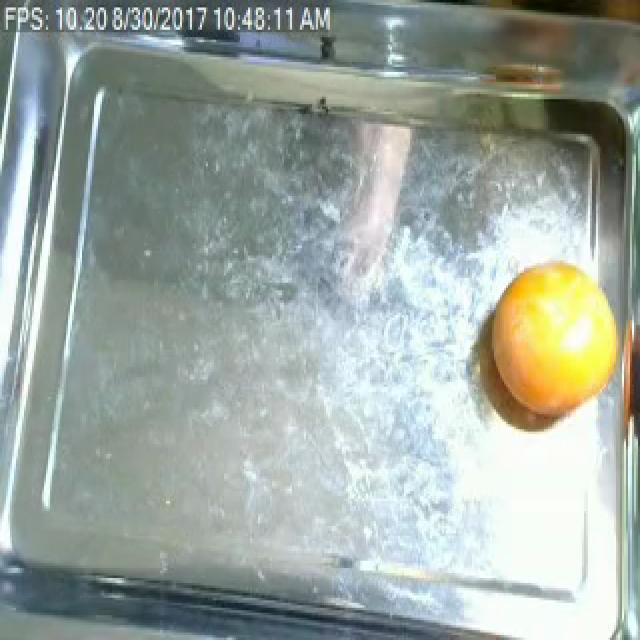Fruit: (482, 253, 624, 419)
